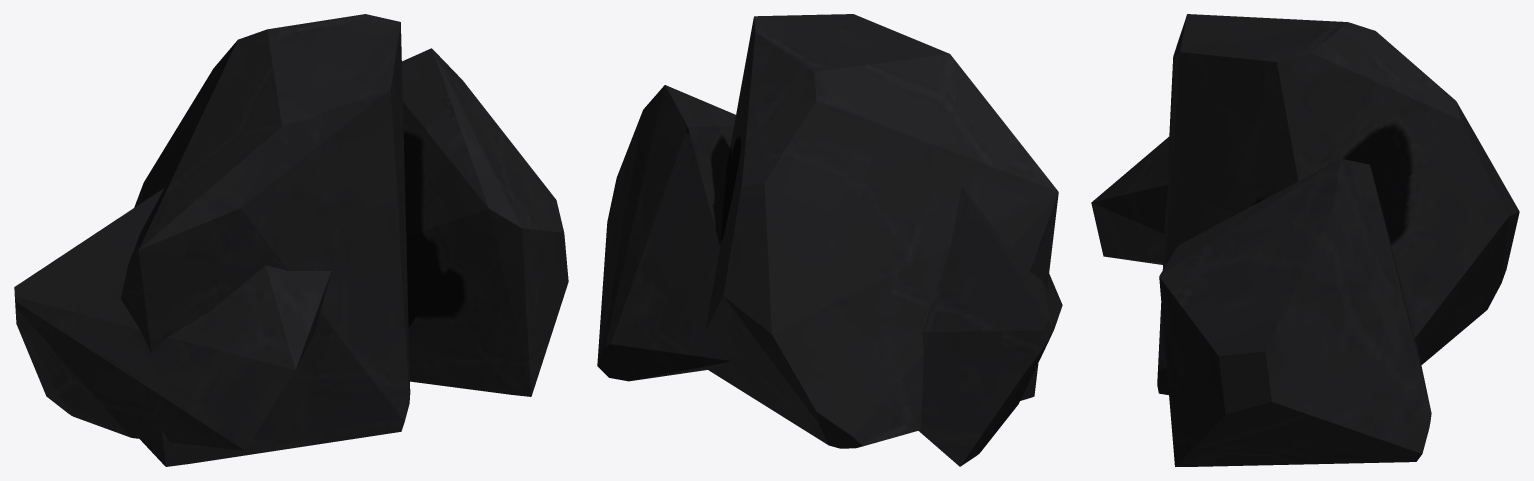
File: res_coal_low.glb
The picture shows the model from 3 angles, left to right: view 1: azimuth 30°, elevation 25°; view 2: azimuth 150°, elevation 25°; view 3: azimuth 270°, elevation 25°; orthographic projection. The views are drawn at different scales.
Visible parts, largest first — view 1: res_coal_low; view 2: res_coal_low; view 3: res_coal_low.
Boxes of the visible parts, x1,y1,x2,y2 form: res_coal_low: (14, 14, 568, 466); res_coal_low: (597, 14, 1062, 466); res_coal_low: (1091, 14, 1519, 466).
Size of the model in its own units: 0.86 by 0.5792 by 0.6164.
1 material, 1 textured.
